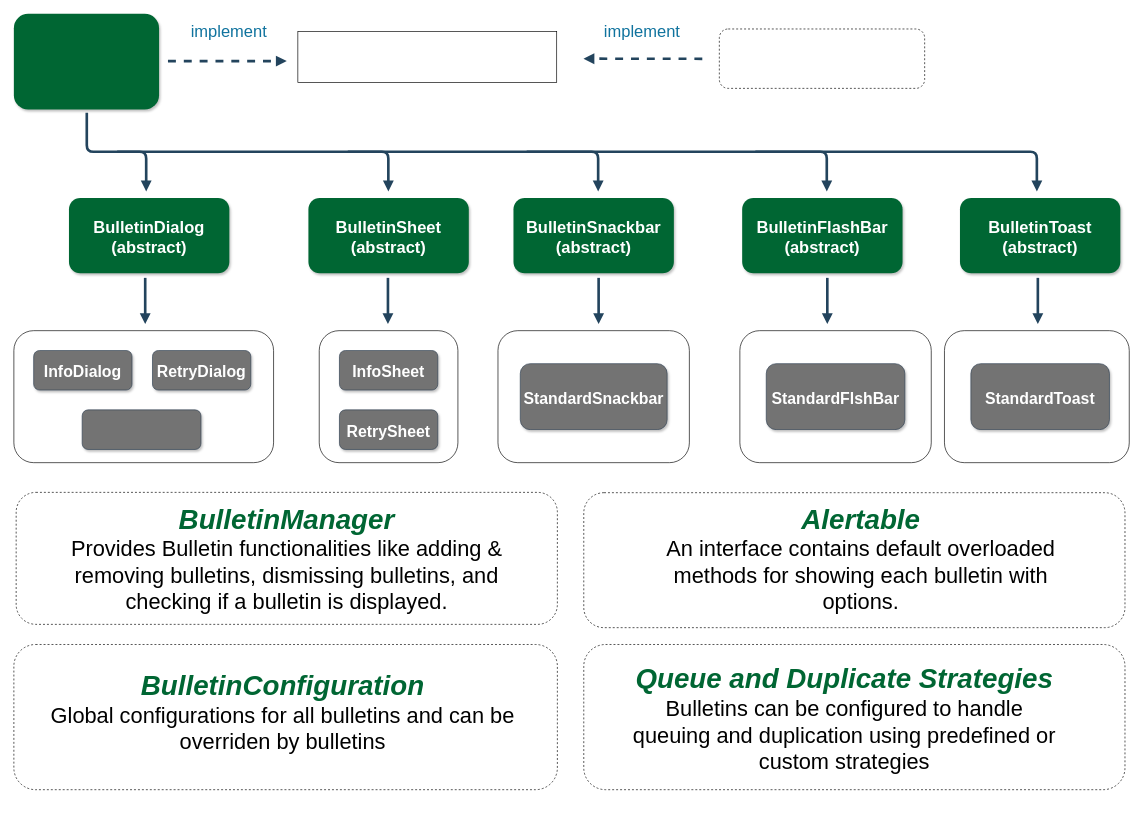
Image size: 1141x814. Some labels were removed from this diagram. Here are the shapes that lost their labels. From the top down, the centre of each, then its label:
(87,62): Bulletins
(427,57): interface Bulletin { .. }
(822,58): Custom Bulletins
(142,430): LoadingDialog
